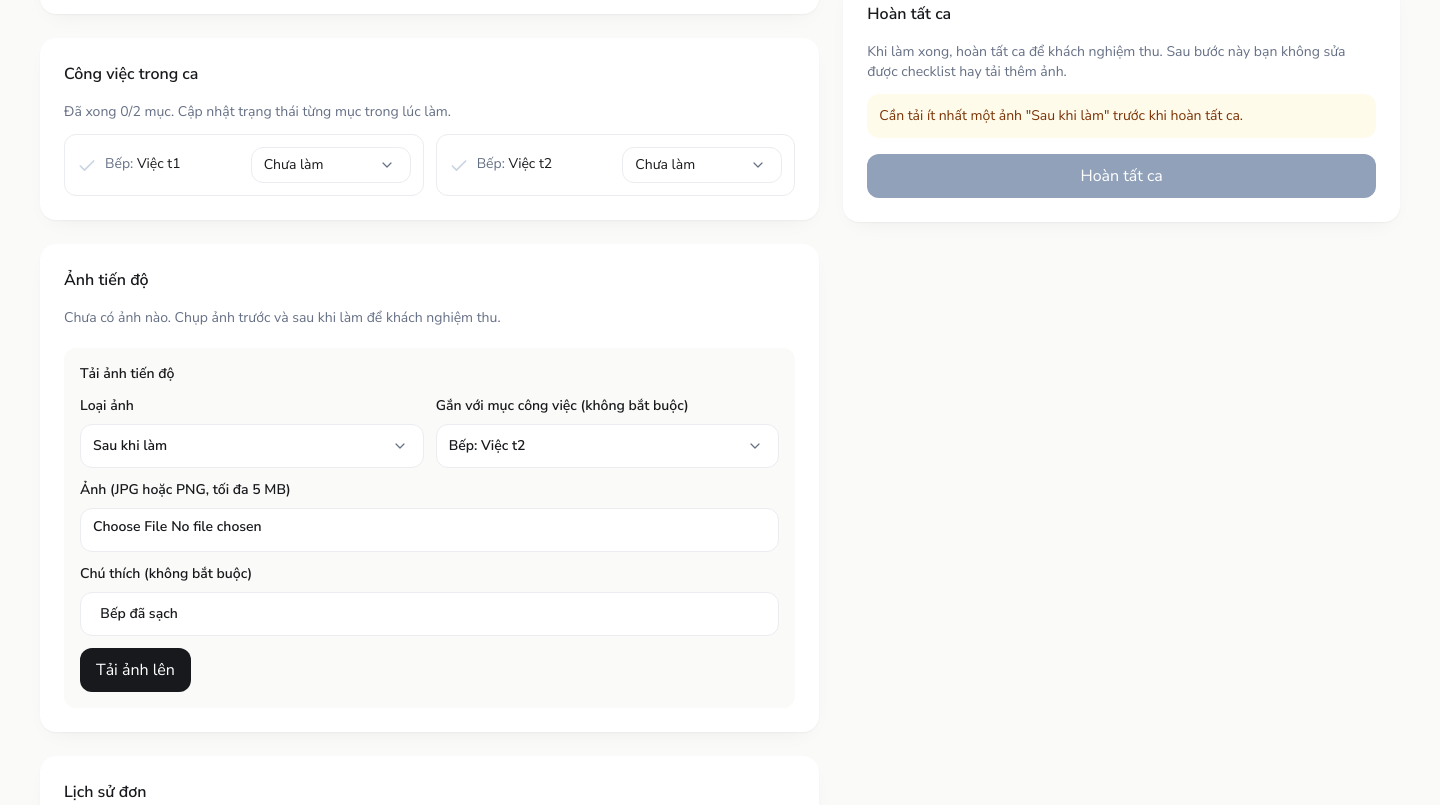
it: freelancer working the shift › uploads a photo with its type, task and caption
Earlier steps of the test are not shown.
(page scrolled)
Click the button "Tải ảnh lên": (136, 670) [80,648,191,692]
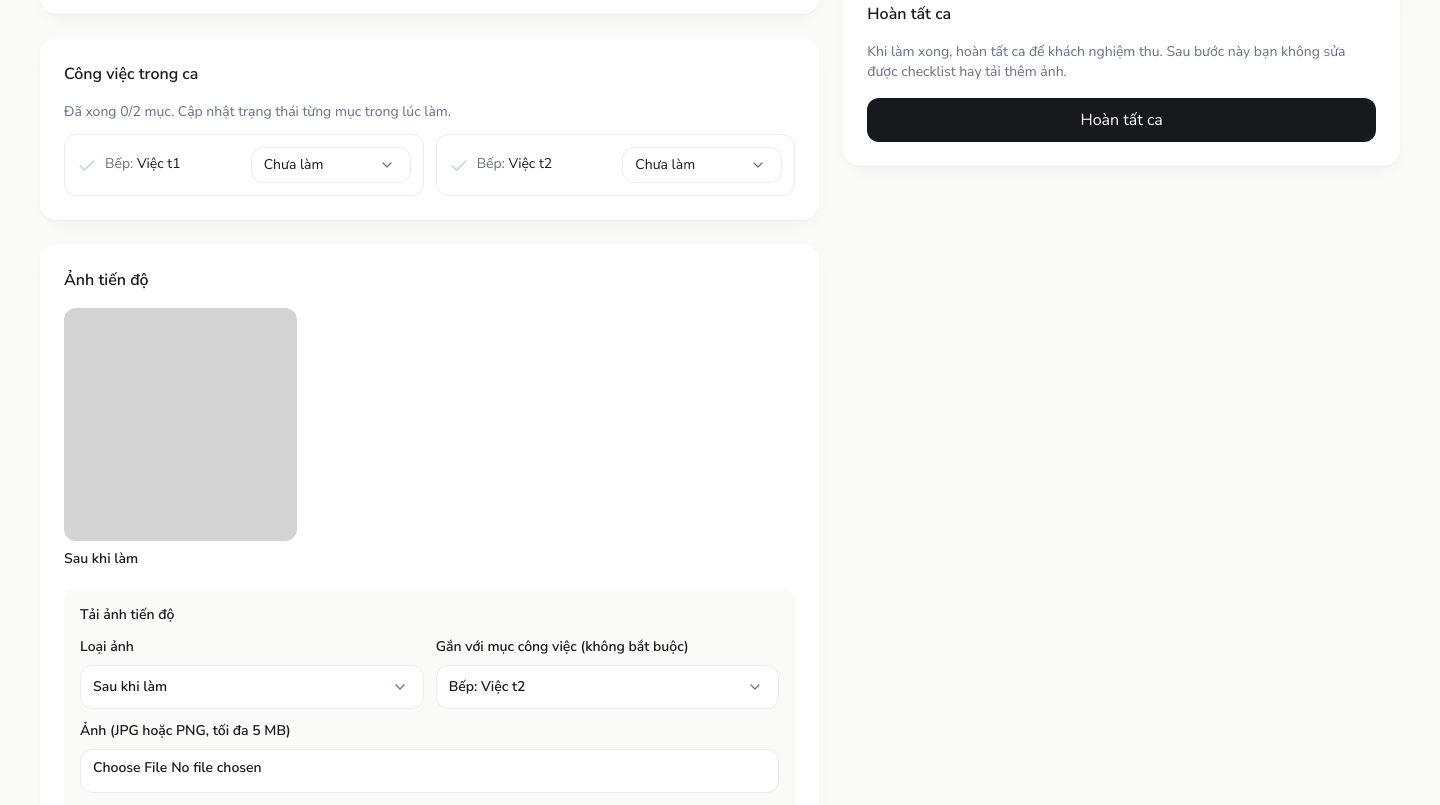
Check: the button "Hoàn tất ca" is enabled, box [867,98,1376,142]
